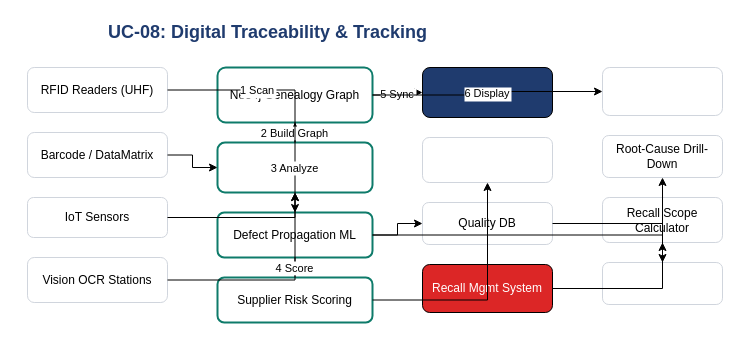
The diagram is 740 pixels wide and 340 high, and some of its shapes have lost their labels. Each missing label, with the box of its shape:
Apache Flink Stream Processing: (216, 141, 373, 193)
Auditor Export Portal: (602, 262, 722, 304)
SAP MES / ERP: (422, 66, 552, 118)
Supplier Portals: (422, 136, 552, 182)
Vehicle Genealogy Viewer: (602, 66, 722, 116)
